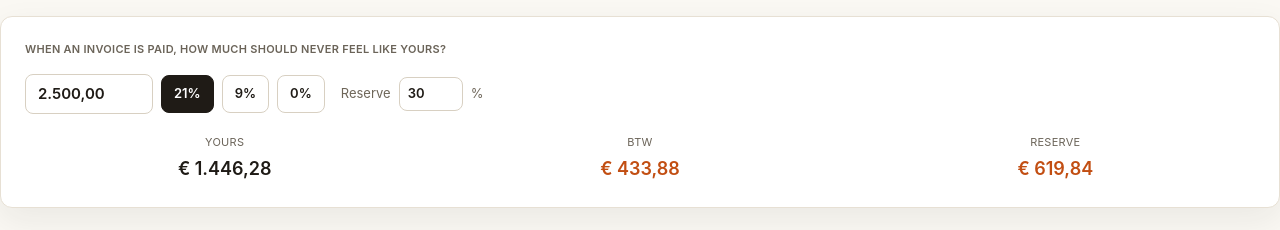
SetAsideCalculator › recomputes live when the invoice total changes
The width and height of the screenshot is (1280, 230).
Replace the text in the field named "Invoice total" with "1.000,00" at (89, 94), box 25,74 -> 153,114
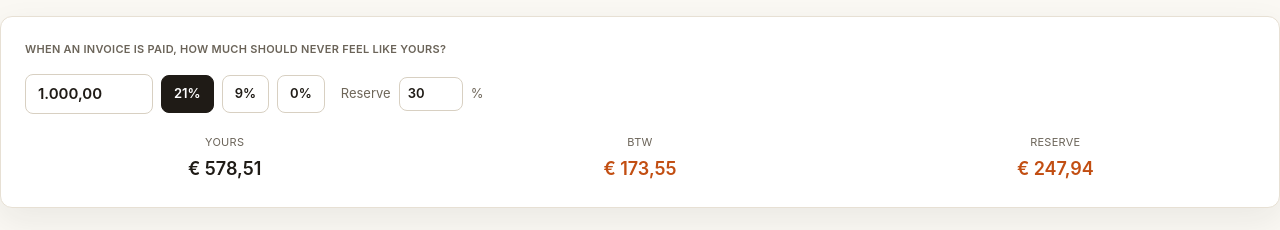
Check: the text "€ 173,55" is shown, box 603,158 -> 676,178
